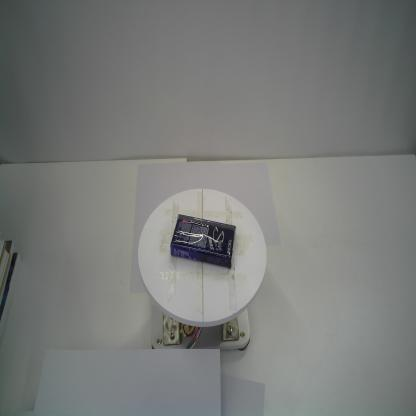Gum: (170, 213, 236, 270)
